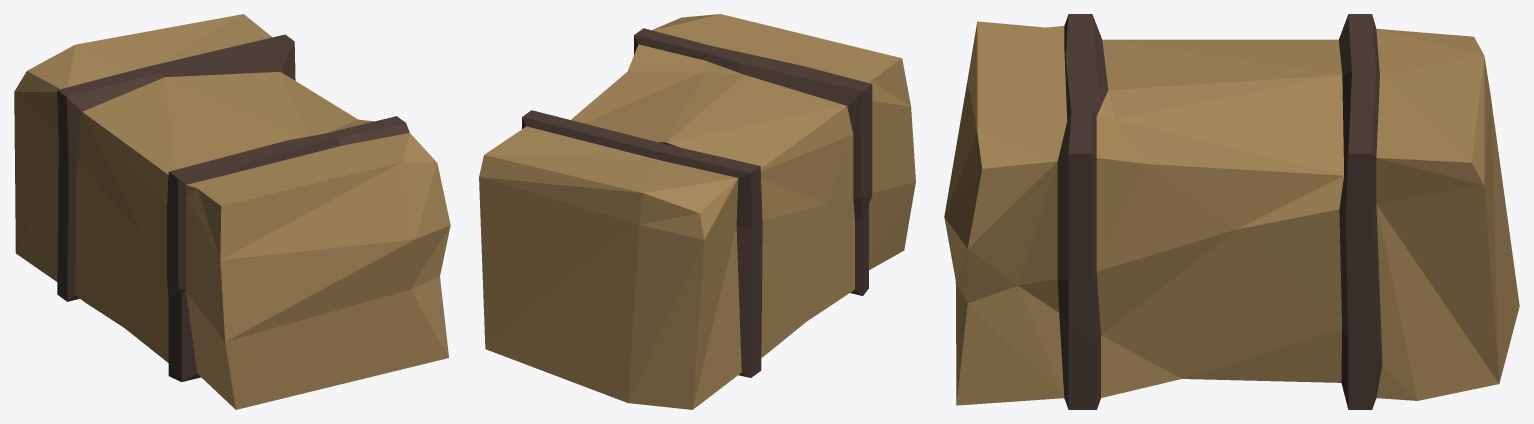
Rendered from haystack.fbx.
The picture shows the model from 3 angles, left to right: view 1: azimuth 30°, elevation 25°; view 2: azimuth 150°, elevation 25°; view 3: azimuth 270°, elevation 25°; orthographic projection. The views are drawn at different scales.
Visible parts, largest first — view 1: Haystack; view 2: Haystack; view 3: Haystack.
Part boxes in pixels (x1,y1,x2,y2): Haystack: (14, 14, 450, 409); Haystack: (479, 14, 915, 409); Haystack: (944, 14, 1519, 409).
Bounding box in the file's own units: 48.54 × 41.18 × 83.
